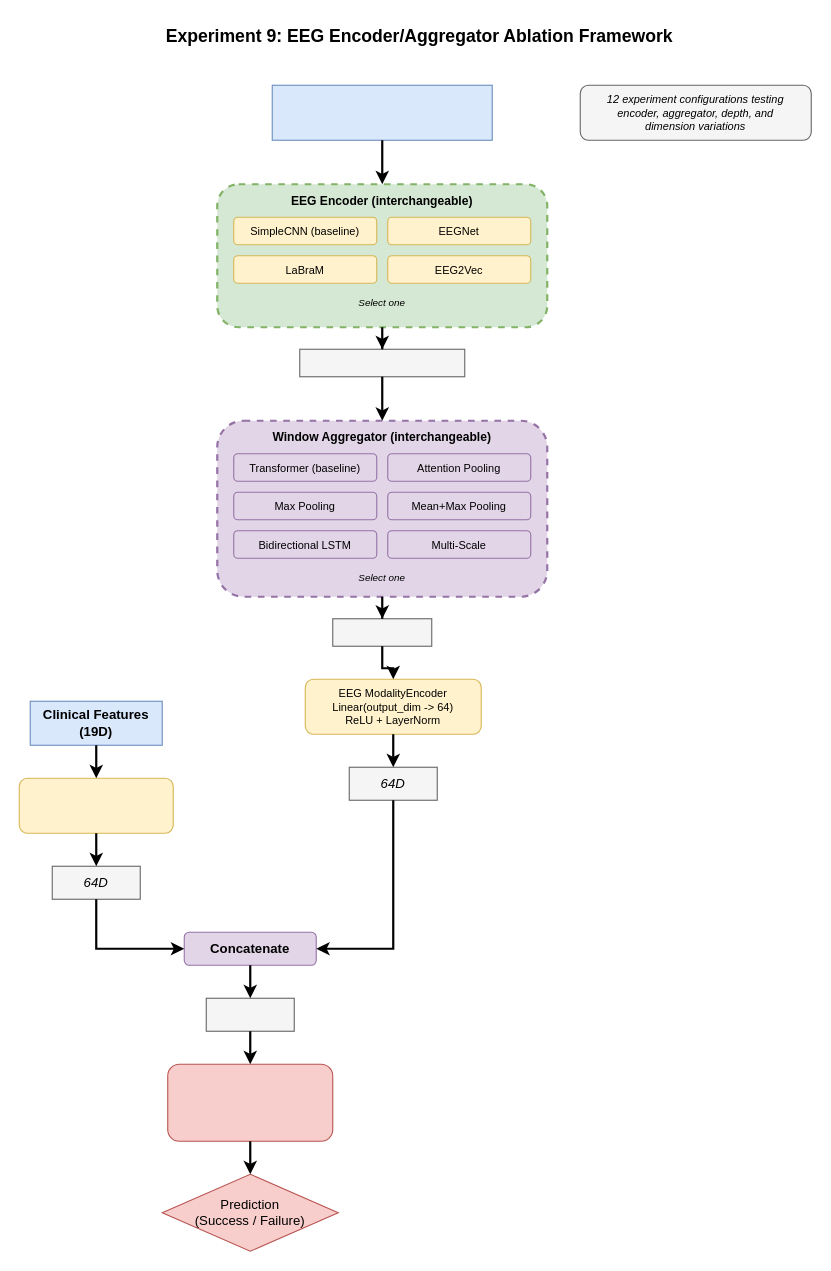
Image size: 831x1271. Some labels were removed from this diagram. Here are the shapes that lost their labels. From the top down, the centre of each, then its label:
the point at 381,112: EEG Windows (num_windows, 27, 2000)
the point at 382,362: (num_windows, embed_dim)
the point at 382,632: (output_dim)
the point at 95,805: Clinical Encoder Linear(19 -> 64) ReLU + LayerNorm
the point at 249,1014: 128D
the point at 250,1102: Classifier Linear(128 -> 64) ReLU + LayerNorm + Dropout Linear(64 -> 2)
